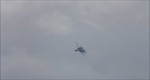maybay_muctieu: (73, 42, 88, 57)
